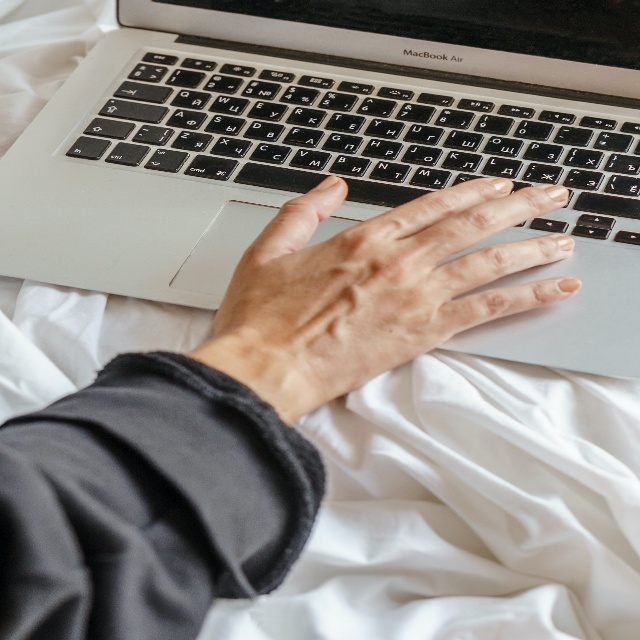Sin_guantes: (214, 175, 583, 413)
